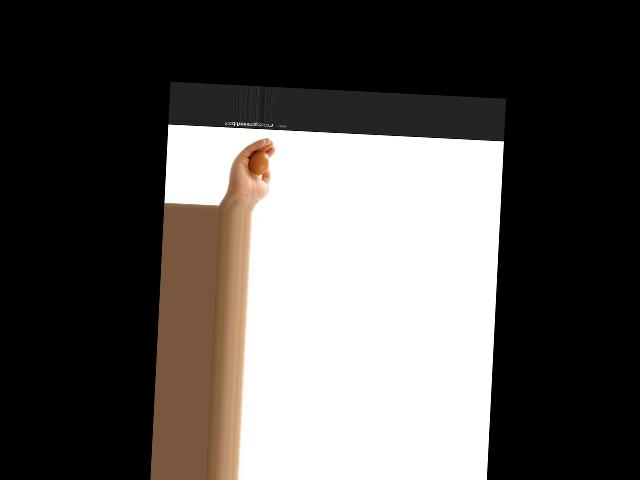egg: (248, 148, 269, 175)
